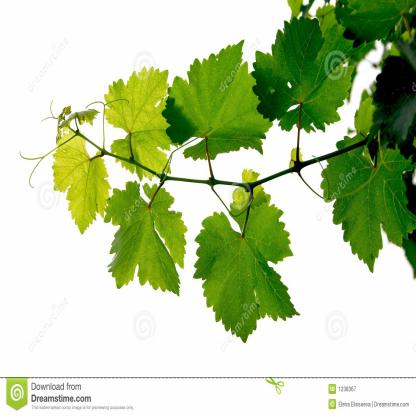grape leaf: (192, 171, 303, 343), (160, 38, 273, 172), (318, 136, 415, 274), (250, 14, 352, 134), (102, 183, 188, 303), (99, 68, 175, 181), (41, 134, 111, 239)
